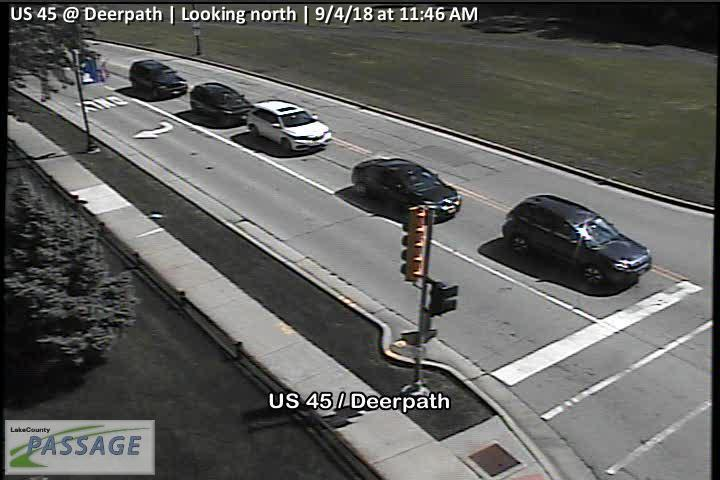SUV: (501, 193, 652, 289), (247, 99, 333, 152), (127, 58, 187, 99)
Sedan: (348, 156, 462, 223), (188, 81, 255, 126)
